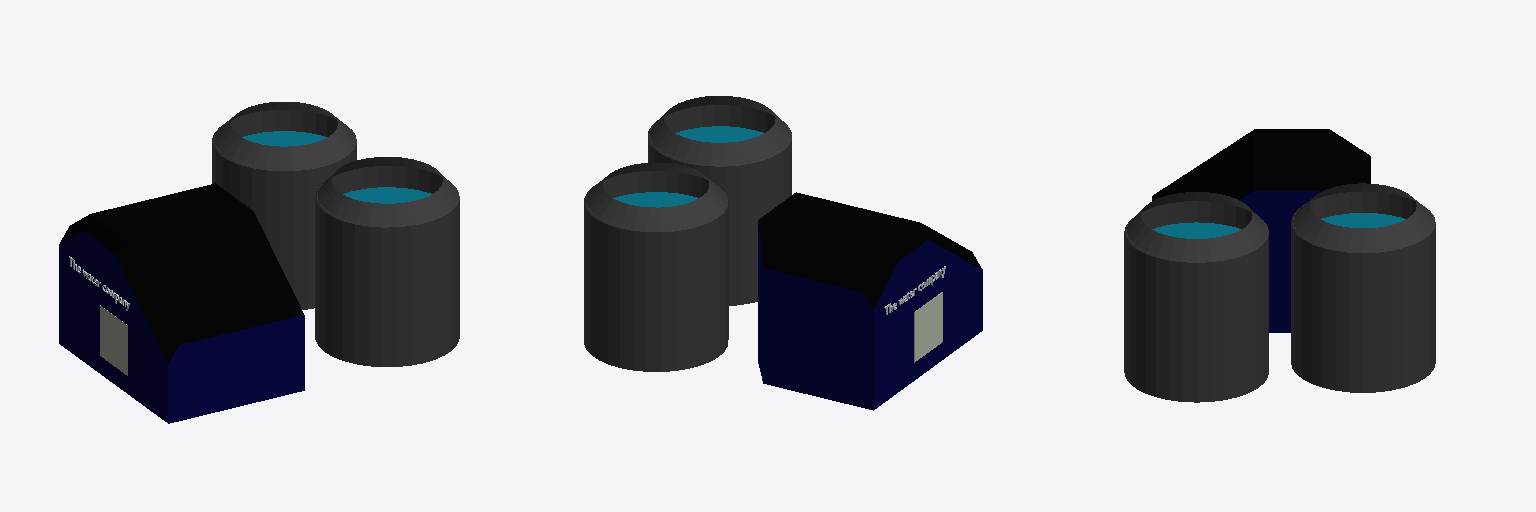
File: pump.obj
The picture shows the model from 3 angles: view 1: azimuth 30°, elevation 25°; view 2: azimuth 150°, elevation 25°; view 3: azimuth 270°, elevation 25°; orthographic projection.
Visible parts, largest first — view 1: Cube, Cylinder.001, Cylinder, Cube.001; view 2: Cube, Cylinder, Cylinder.001, Cube.001; view 3: Cylinder.001, Cylinder, Cube.
Boxes of the visible parts, box(x1,y1,x2,y2) form: Cube: box(59, 183, 304, 423); Cylinder.001: box(315, 157, 459, 366); Cylinder: box(212, 102, 356, 309); Cube.001: box(100, 305, 127, 375); Cube: box(758, 192, 982, 410); Cylinder: box(584, 163, 728, 371); Cylinder.001: box(648, 96, 791, 305); Cube.001: box(914, 292, 942, 362); Cylinder.001: box(1124, 192, 1268, 402); Cylinder: box(1291, 183, 1435, 392); Cube: box(1152, 129, 1370, 332).
Bounding box in the file's own units: 8.56 × 4.52 × 7.57.